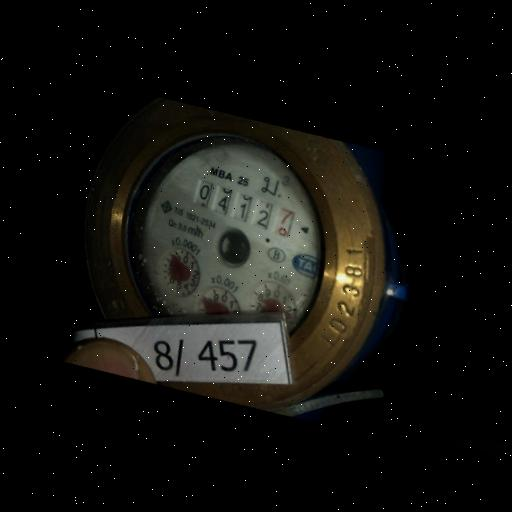0: (192, 179, 214, 208)
1: (231, 193, 252, 222)
2: (252, 200, 273, 229)
4: (210, 185, 234, 215)
7: (273, 206, 297, 239)
border_water_meter_number: (184, 173, 301, 241)
